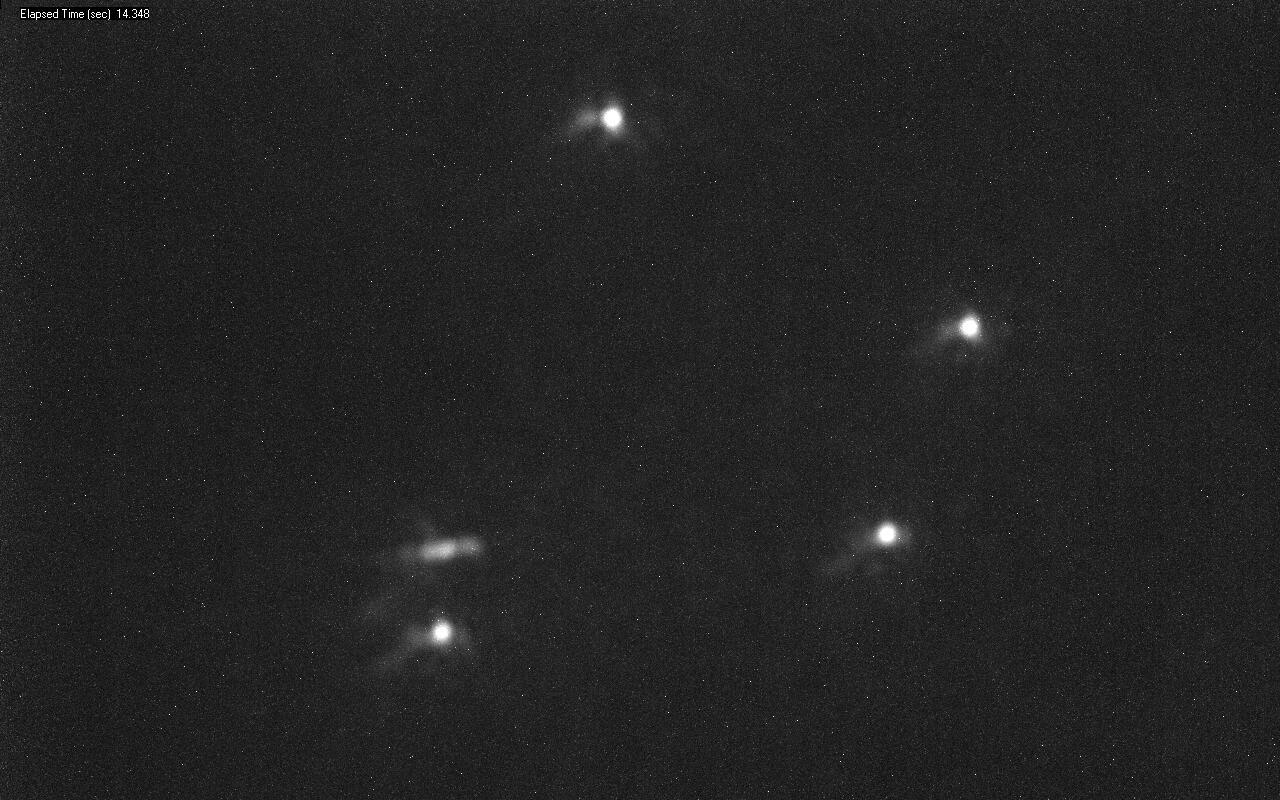Bead: (953, 313, 981, 341), (598, 105, 625, 133), (875, 522, 904, 545), (429, 620, 454, 643)
